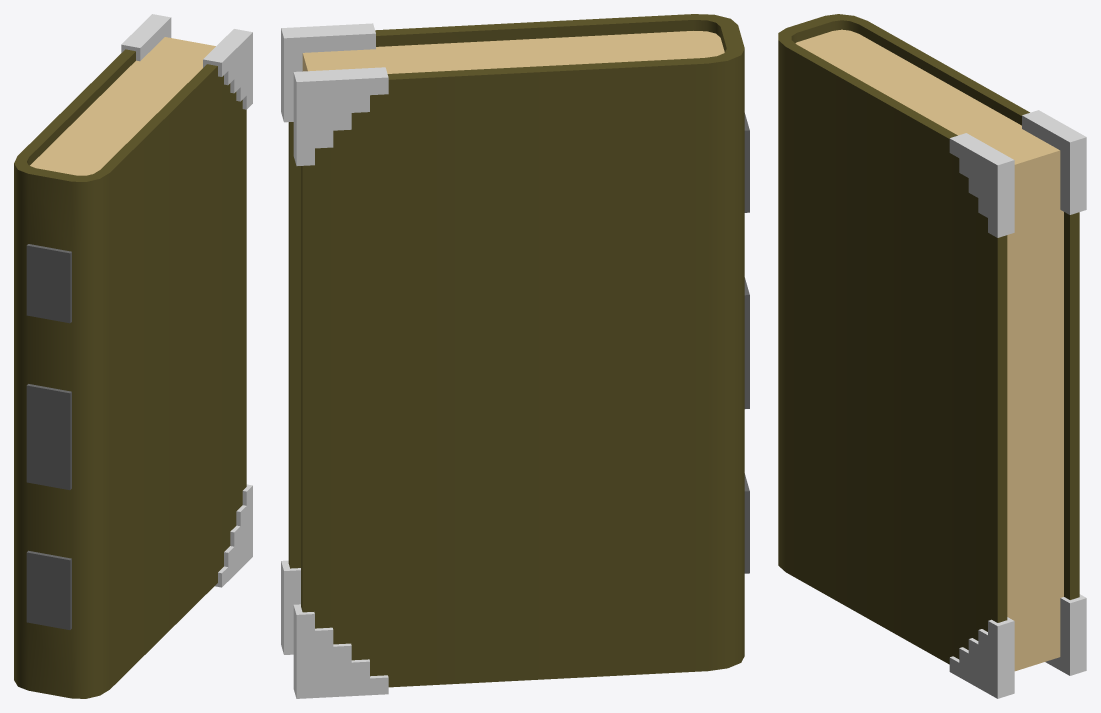
Rendered from obj_Book_07.fbx.
3 views of the same model, side by side, from view 1: azimuth 30°, elevation 25°; view 2: azimuth 150°, elevation 25°; view 3: azimuth 270°, elevation 25° (orthographic). The views are drawn at different scales.
Parts seen in each view (by area): view 1: Book_07, Book_EdgePattern.015; view 2: Book_07, Book_EdgePattern.015; view 3: Book_07, Book_EdgePattern.015.
Boxes of the visible parts, x1,y1,x2,y2 form: Book_07: (14,37,246,698); Book_EdgePattern.015: (121,14,252,587); Book_07: (288,14,749,687); Book_EdgePattern.015: (281,23,388,698); Book_07: (778,14,1079,671); Book_EdgePattern.015: (949,110,1086,698).
Bounding box in the file's own units: 0.2222 × 0.3558 × 0.1865.
